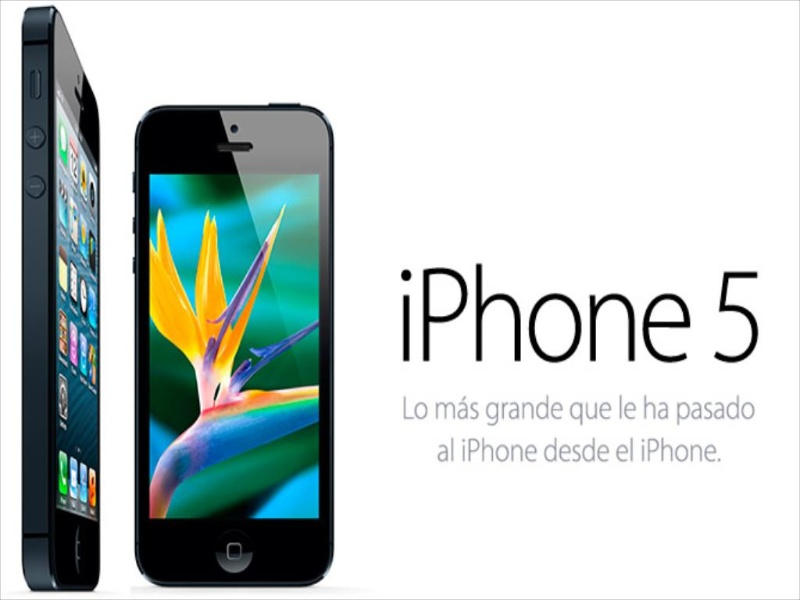cellphone: (132, 99, 341, 591), (19, 1, 105, 600)
